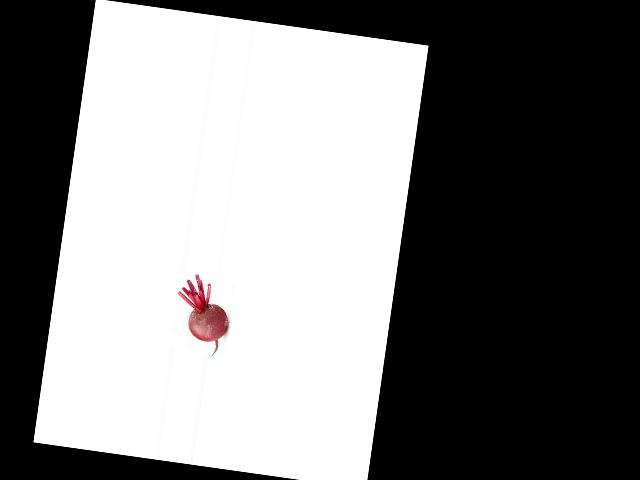beet: (170, 271, 234, 358)
